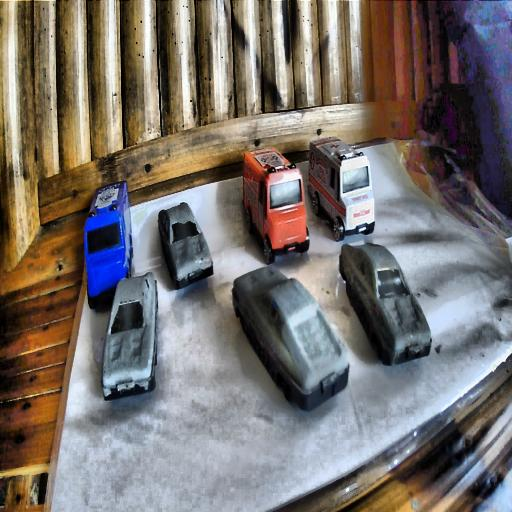ambulance: (308, 134, 376, 242)
fire_truck: (241, 146, 309, 262)
normal_car: (231, 266, 349, 411), (339, 240, 431, 364), (100, 270, 160, 402), (158, 202, 214, 290)
police car: (82, 178, 133, 309)
